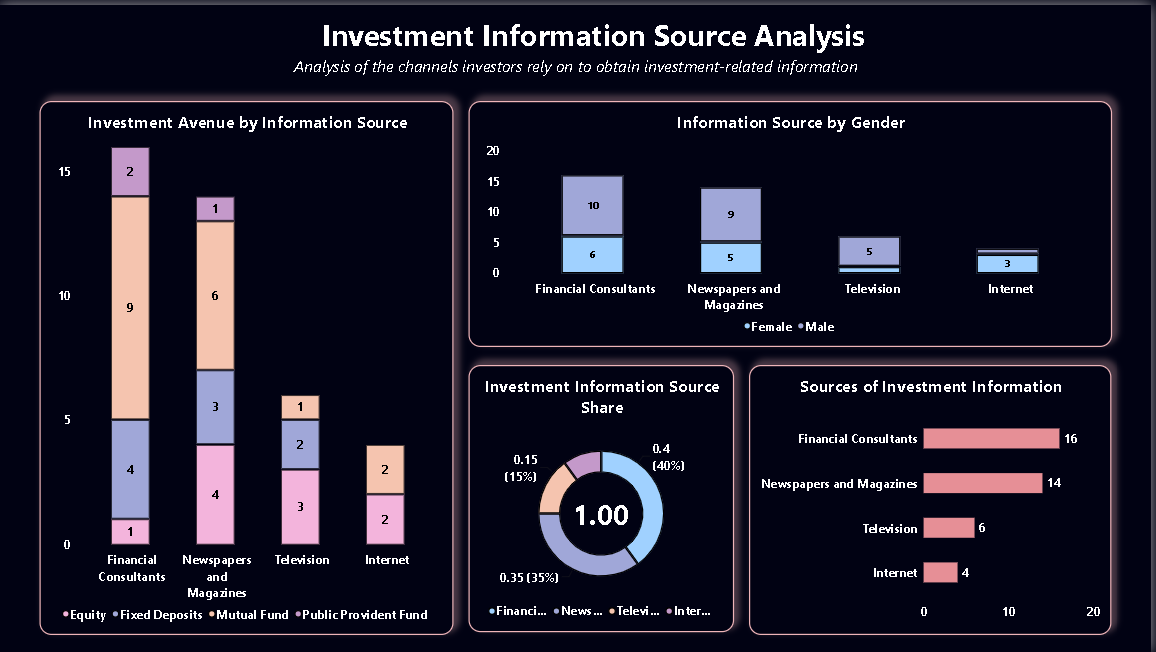

This screenshot's page, from the dashboard's own definition file:
{"tool":"powerbi","page":{"name":"Task-6.Source of Information","canvas":[1920,1080],"ordinal":5},"visuals":[{"type":"textbox","box":[128,18,1726,66],"z":0},{"type":"clusteredBarChart","title":"Sources of Investment Information","fields":{"Category":["Investments.Source"],"Y":["CountNonNull(Investments.Source)"]},"box":[1250,600,604,450],"z":1000},{"type":"columnChart","title":"Information Source by Gender","fields":{"Category":["Investments.Source"],"Series":["Investments.gender"],"Y":["CountNonNull(Investments.Source)"]},"box":[782.5,160,1072.5,410],"z":2000},{"type":"donutChart","title":"Investment Information Source Share","fields":{"Category":["Investments.Source"],"Y":["All_Measures.Source %"]},"box":[782.5,600,442.5,445],"z":3000},{"type":"columnChart","title":"Investment Avenue by Information Source","fields":{"Category":["Investments.Source"],"Series":["Investments.Avenue"],"Y":["CountNonNull(Investments.Source)"]},"box":[68,160,690,890],"z":4000},{"type":"textbox","box":[67.5,82.5,1787.5,55],"z":5000}]}

Visuals, with their boxes in screenshot pixels (x1, y1, x2, y2), scaled from the page's 1920x1080 canvas onto the 1156x652 screenshot:
textbox: <bbox>77, 11, 1116, 51</bbox>
"Sources of Investment Information" clusteredBarChart: <bbox>753, 362, 1116, 634</bbox>
"Information Source by Gender" columnChart: <bbox>471, 97, 1117, 344</bbox>
"Investment Information Source Share" donutChart: <bbox>471, 362, 738, 631</bbox>
"Investment Avenue by Information Source" columnChart: <bbox>41, 97, 456, 634</bbox>
textbox: <bbox>41, 50, 1117, 83</bbox>
